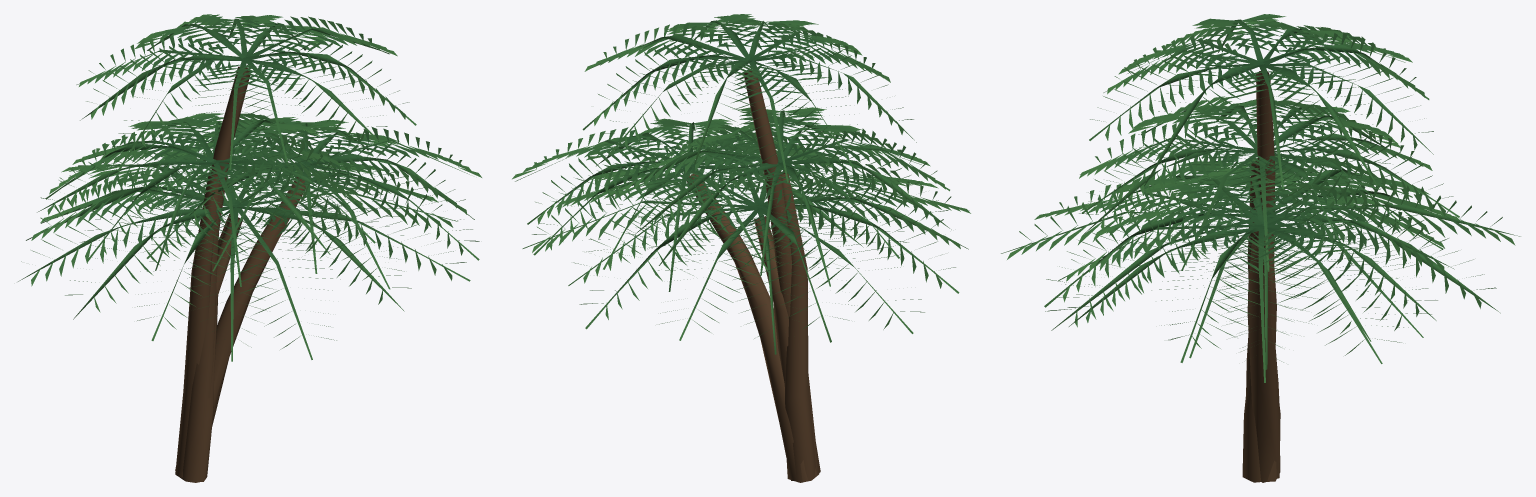
File: palm_library_lod2.glb
3 views of the same model, side by side, from view 1: azimuth 30°, elevation 25°; view 2: azimuth 150°, elevation 25°; view 3: azimuth 270°, elevation 25° (orthographic). The views are drawn at different scales.
Visible parts, largest first — view 1: GEO_palm_wide_fronds_lod2, GEO_palm_upright_fronds_lod2, GEO_palm_tall_fronds_lod2, GEO_palm_leaning_fronds_lod2, GEO_palm_tall_trunk_lod2, GEO_palm_upright_trunk_lod2, GEO_palm_leaning_trunk_lod2, GEO_palm_wide_trunk_lod2; view 2: GEO_palm_wide_fronds_lod2, GEO_palm_upright_fronds_lod2, GEO_palm_tall_fronds_lod2, GEO_palm_leaning_fronds_lod2, GEO_palm_upright_trunk_lod2, GEO_palm_leaning_trunk_lod2, GEO_palm_tall_trunk_lod2, GEO_palm_wide_trunk_lod2; view 3: GEO_palm_leaning_fronds_lod2, GEO_palm_upright_fronds_lod2, GEO_palm_wide_fronds_lod2, GEO_palm_tall_fronds_lod2, GEO_palm_leaning_trunk_lod2, GEO_palm_wide_trunk_lod2, GEO_palm_tall_trunk_lod2, GEO_palm_upright_trunk_lod2.
Boxes of the visible parts, x1=… form: GEO_palm_wide_fronds_lod2: x1=18, y1=145, x2=470, y2=361; GEO_palm_upright_fronds_lod2: x1=37, y1=113, x2=378, y2=286; GEO_palm_tall_fronds_lod2: x1=76, y1=14, x2=416, y2=171; GEO_palm_leaning_fronds_lod2: x1=130, y1=117, x2=481, y2=289; GEO_palm_tall_trunk_lod2: x1=181, y1=66, x2=250, y2=482; GEO_palm_upright_trunk_lod2: x1=175, y1=173, x2=219, y2=478; GEO_palm_leaning_trunk_lod2: x1=175, y1=177, x2=305, y2=477; GEO_palm_wide_trunk_lod2: x1=186, y1=213, x2=242, y2=481; GEO_palm_wide_fronds_lod2: x1=522, y1=134, x2=970, y2=354; GEO_palm_upright_fronds_lod2: x1=607, y1=107, x2=951, y2=286; GEO_palm_tall_fronds_lod2: x1=582, y1=14, x2=916, y2=182; GEO_palm_leaning_fronds_lod2: x1=512, y1=118, x2=873, y2=291; GEO_palm_upright_trunk_lod2: x1=781, y1=170, x2=816, y2=482; GEO_palm_leaning_trunk_lod2: x1=687, y1=174, x2=816, y2=481; GEO_palm_tall_trunk_lod2: x1=744, y1=70, x2=819, y2=475; GEO_palm_wide_trunk_lod2: x1=754, y1=216, x2=820, y2=472; GEO_palm_leaning_fronds_lod2: x1=1058, y1=167, x2=1454, y2=382; GEO_palm_upright_fronds_lod2: x1=1079, y1=96, x2=1459, y2=271; GEO_palm_wide_fronds_lod2: x1=1001, y1=155, x2=1520, y2=369; GEO_palm_tall_fronds_lod2: x1=1089, y1=14, x2=1433, y2=189; GEO_palm_leaning_trunk_lod2: x1=1247, y1=232, x2=1280, y2=482; GEO_palm_wide_trunk_lod2: x1=1242, y1=231, x2=1276, y2=482; GEO_palm_tall_trunk_lod2: x1=1246, y1=71, x2=1275, y2=393; GEO_palm_upright_trunk_lod2: x1=1247, y1=161, x2=1280, y2=481.
Size of the model in its own units: 9.05 by 8.33 by 8.66.
